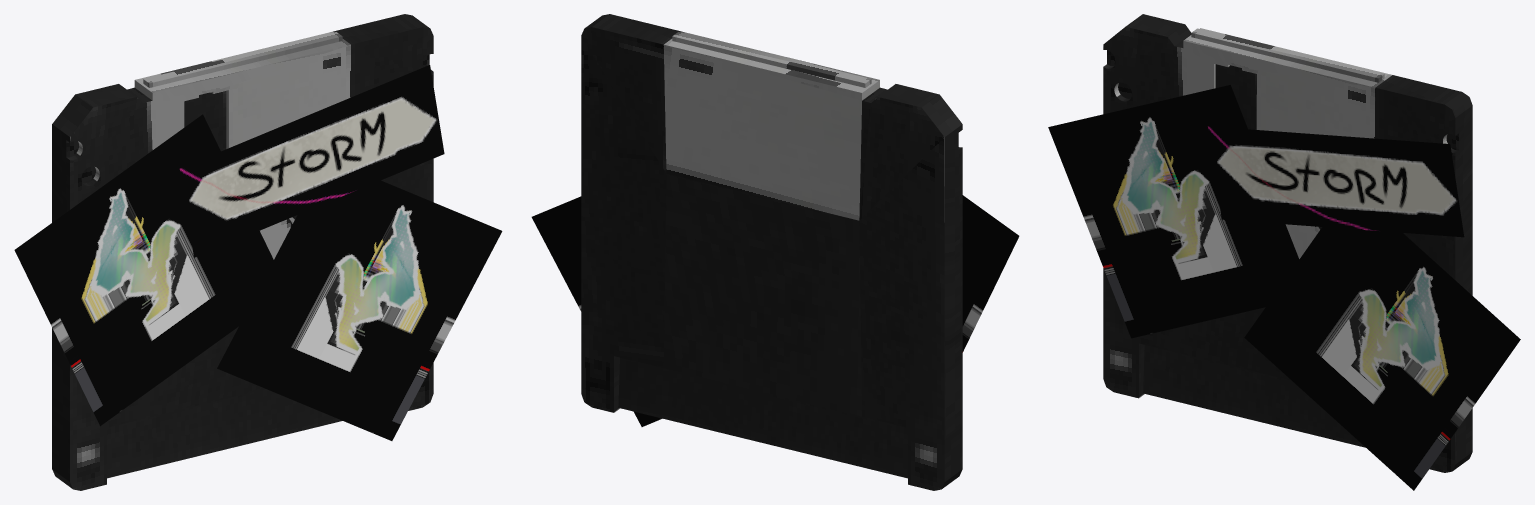
The model's file is D_1glb.glb.
3 renders of one model, left to right at view 1: azimuth 30°, elevation 25°; view 2: azimuth 150°, elevation 25°; view 3: azimuth 330°, elevation 25°, orthographic. The views are drawn at different scales.
Visible parts, largest first — view 1: Cube, Plane.003, Plane, Plane.001; view 2: Cube, Plane, Plane.003; view 3: Cube, Plane.003, Plane, Plane.001.
Part boxes in pixels (left/top/right/bottom): Cube: left=52, top=14, right=433, bottom=490; Plane.003: left=217, top=180, right=502, bottom=440; Plane: left=14, top=114, right=273, bottom=426; Plane.001: left=179, top=65, right=444, bottom=257; Cube: left=581, top=14, right=962, bottom=490; Plane: left=962, top=195, right=1019, bottom=352; Plane.003: left=531, top=196, right=661, bottom=426; Cube: left=1103, top=14, right=1472, bottom=472; Plane.003: left=1244, top=227, right=1520, bottom=490; Plane: left=1048, top=85, right=1299, bottom=338; Plane.001: left=1208, top=126, right=1464, bottom=237.
Bounding box in the file's own units: 3.81 × 3.07 × 0.2535.
3 materials, 3 textured.
